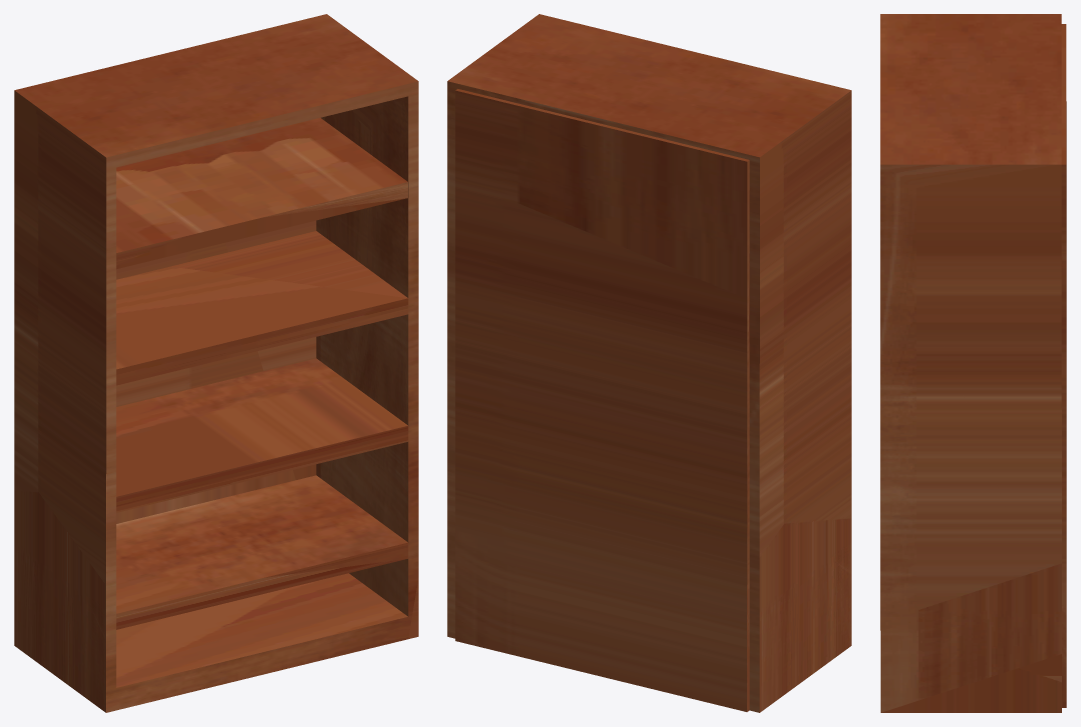
The model's file is book case.fbx.
3 renders of one model, left to right at view 1: azimuth 30°, elevation 25°; view 2: azimuth 150°, elevation 25°; view 3: azimuth 270°, elevation 25°, orthographic.
Visible parts, largest first — view 1: bookcase; view 2: bookcase; view 3: bookcase.
Boxes of the visible parts, x1,y1,x2,y2 form: bookcase: (14, 14, 418, 712); bookcase: (447, 14, 851, 712); bookcase: (880, 14, 1066, 712).
Bounding box in the file's own units: 490 × 832 × 256.
